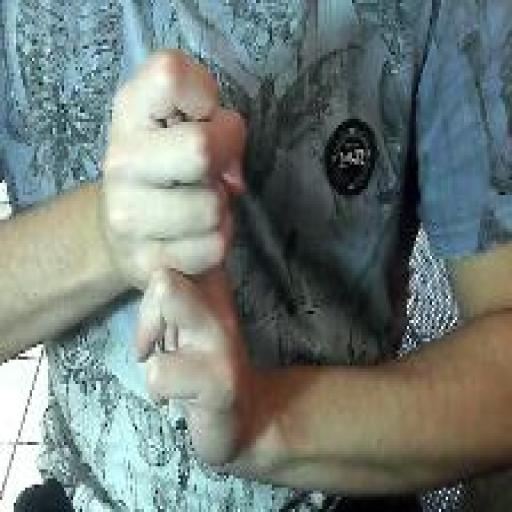Ne -rat-: (97, 43, 255, 472)
